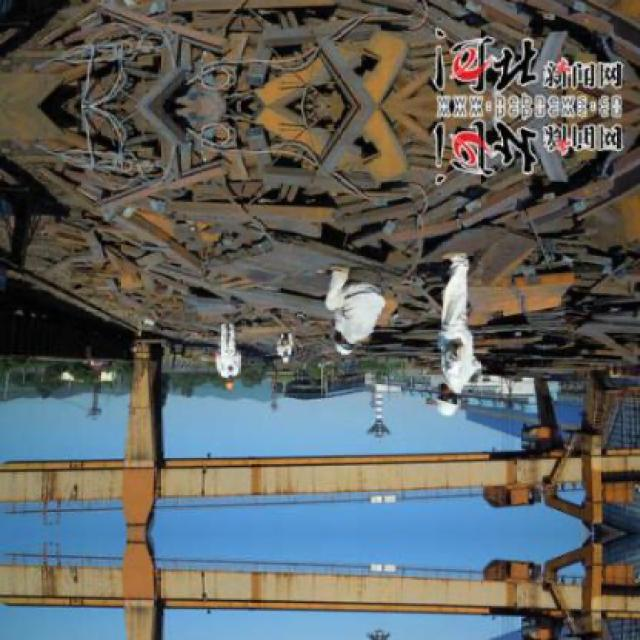con casco: (428, 344, 506, 424), (306, 329, 382, 356)
